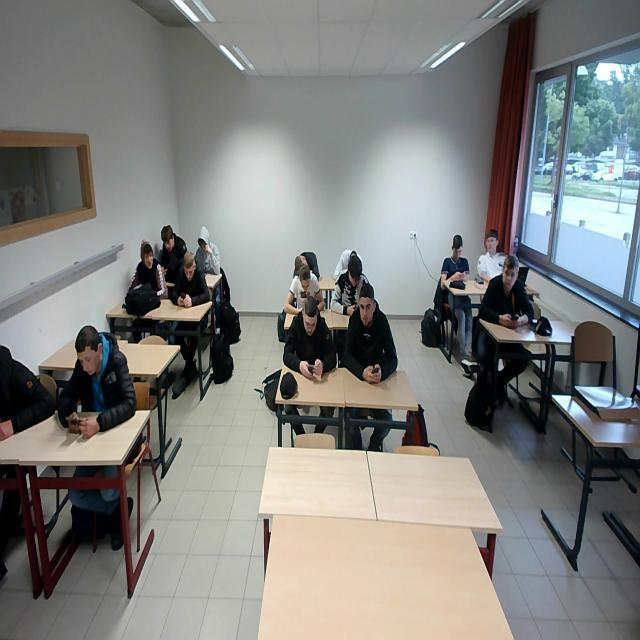phone_use: (57, 324, 133, 436), (282, 295, 334, 378), (330, 253, 366, 314), (170, 252, 208, 305), (159, 224, 185, 281), (440, 234, 467, 286)
